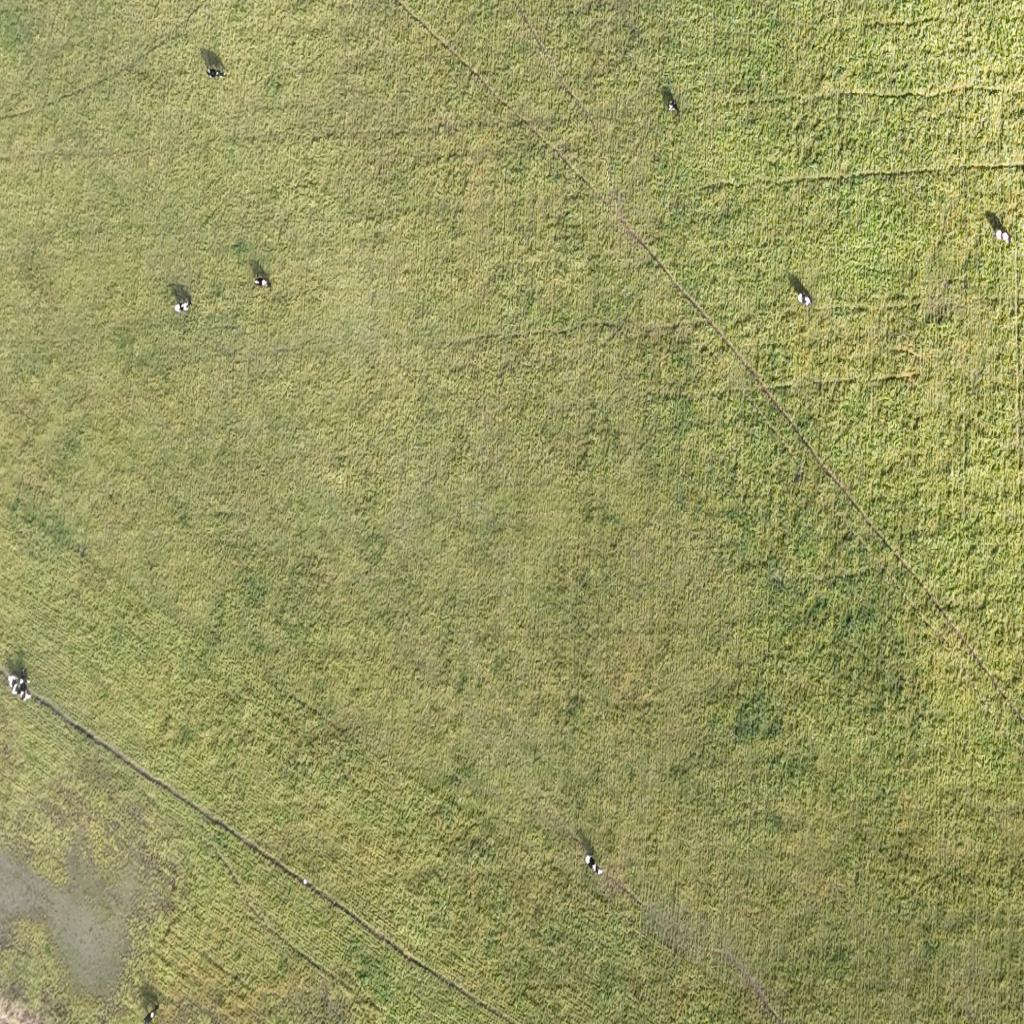cow: (9, 678, 31, 700), (585, 858, 602, 878), (989, 225, 1004, 243), (206, 66, 225, 79), (7, 674, 20, 693), (797, 291, 812, 306), (174, 300, 190, 312), (254, 276, 270, 288), (792, 291, 802, 304), (584, 854, 593, 867), (667, 102, 676, 114)
